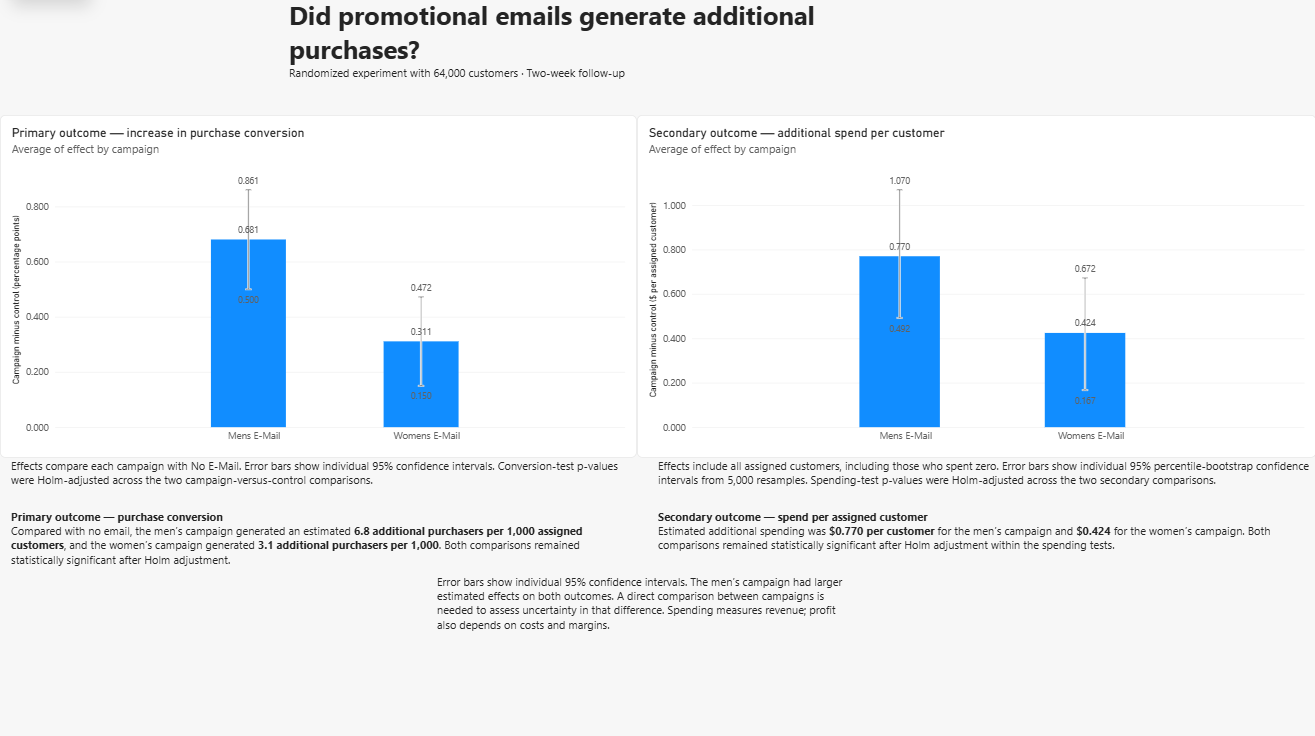

What the dashboard file says about the page in this screenshot:
{"tool":"powerbi","page":{"name":"Page 1","canvas":[1920,1080],"ordinal":0},"visuals":[{"type":"clusteredColumnChart","title":"Primary outcome — increase in purchase conversion","fields":{"Category":["campaign_effects.campaign"],"Y":["Avg(campaign_effects.effect)"]},"box":[0,170.7,929.4,500.4],"z":0},{"type":"textbox","box":[16,671.1,891.4,74.4],"z":1},{"type":"clusteredColumnChart","title":"Secondary outcome — additional spend per customer","fields":{"Category":["campaign_effects.campaign"],"Y":["Avg(campaign_effects.effect)"]},"box":[929.4,170.7,990.6,500.4],"z":2},{"type":"textbox","box":[960,671.1,960,74.4],"z":3},{"type":"textbox","box":[421.6,0,887.1,148.8],"z":4},{"type":"textbox","box":[16,745.5,891.4,94.8],"z":5},{"type":"textbox","box":[960,745.5,960,94.8],"z":6},{"type":"textbox","box":[637.6,840.4,592.3,97.8],"z":7}]}

Visuals, with their boxes in screenshot pixels (x1, y1, x2, y2), scaled from the page's 1920x1080 canvas onto the 1315x736 screenshot:
"Primary outcome — increase in purchase conversion" clusteredColumnChart: select_region(0, 116, 637, 457)
textbox: select_region(11, 457, 621, 508)
"Secondary outcome — additional spend per customer" clusteredColumnChart: select_region(637, 116, 1314, 457)
textbox: select_region(658, 457, 1314, 508)
textbox: select_region(289, 0, 896, 101)
textbox: select_region(11, 508, 621, 573)
textbox: select_region(658, 508, 1314, 573)
textbox: select_region(437, 573, 842, 639)
